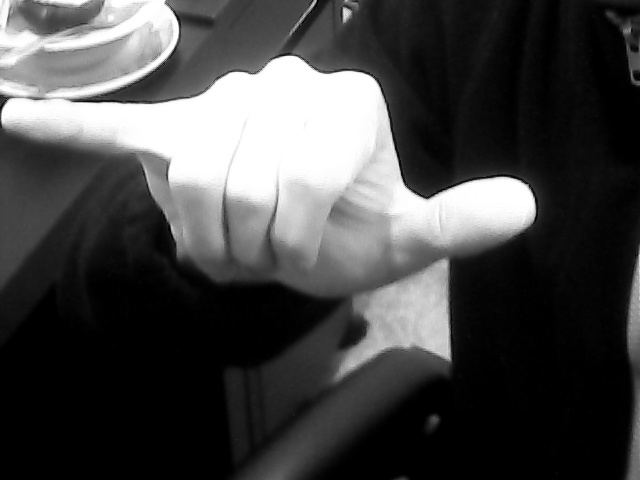aloha: (2, 48, 539, 302)
